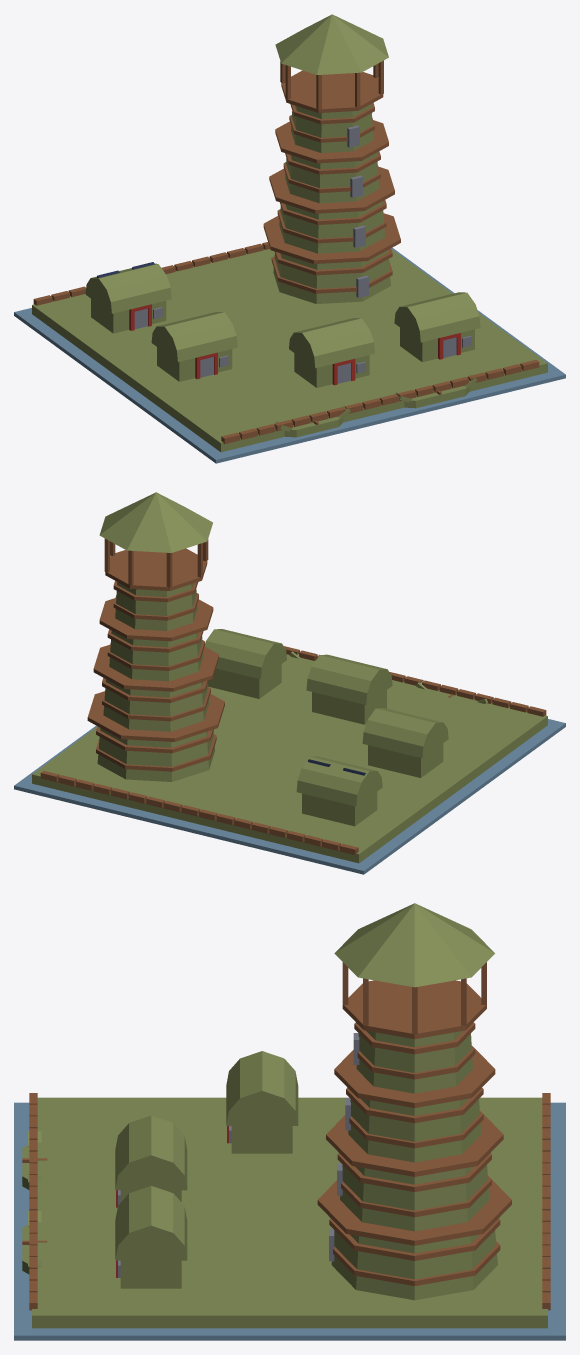
The model's file is house-2x2-4f-totora-a-solar.glb.
3 views of the same model, one above another, from view 1: azimuth 30°, elevation 25°; view 2: azimuth 150°, elevation 25°; view 3: azimuth 270°, elevation 25° (orthographic). The views are drawn at different scales.
Parts seen in each view (by area): view 1: house-2x2-4f-totora-a-solar; view 2: house-2x2-4f-totora-a-solar; view 3: house-2x2-4f-totora-a-solar.
Boxes of the visible parts, left/top/right/bottom form: house-2x2-4f-totora-a-solar: left=14, top=14, right=565, bottom=463; house-2x2-4f-totora-a-solar: left=14, top=492, right=565, bottom=874; house-2x2-4f-totora-a-solar: left=14, top=903, right=565, bottom=1340.
Bounding box in the file's own units: 1.99 × 1.51 × 1.99.
1 material, 1 textured.
